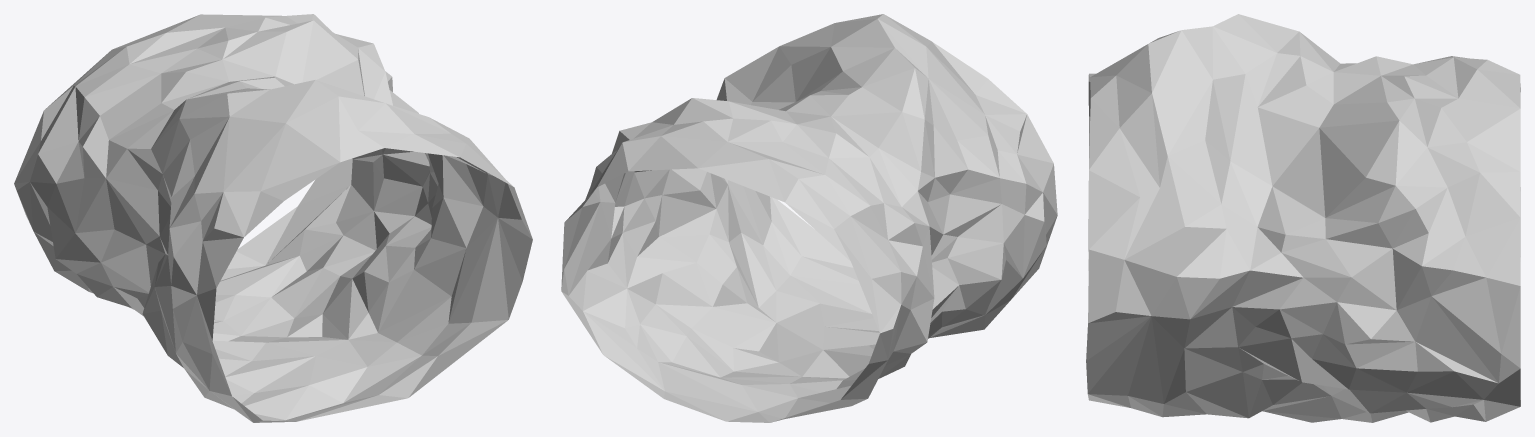
Rendered from Straight_Short_Rock_1.glb.
3 views of the same model, side by side, from view 1: azimuth 30°, elevation 25°; view 2: azimuth 150°, elevation 25°; view 3: azimuth 270°, elevation 25° (orthographic). The views are drawn at different scales.
Visible parts, largest first — view 1: Straight_Short_Rock_1; view 2: Straight_Short_Rock_1; view 3: Straight_Short_Rock_1.
Boxes of the visible parts, x1,y1,x2,y2 form: Straight_Short_Rock_1: (14, 14, 532, 422); Straight_Short_Rock_1: (561, 14, 1057, 422); Straight_Short_Rock_1: (1086, 14, 1520, 422).
Size of the model in its own units: 106 by 92.1 by 101.
Materials: 1 (1 with a texture image).
